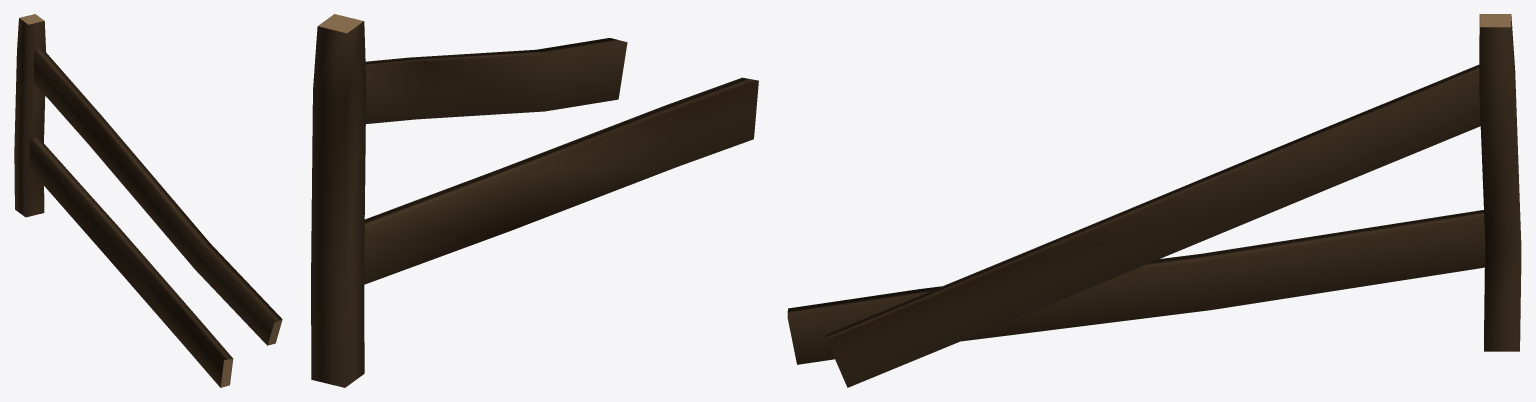
The model's file is SM_FencePost_Broken.fbx.
The picture shows the model from 3 angles, left to right: view 1: azimuth 30°, elevation 25°; view 2: azimuth 150°, elevation 25°; view 3: azimuth 270°, elevation 25°; orthographic projection. The views are drawn at different scales.
Visible parts, largest first — view 1: SM_FencePost_Broken; view 2: SM_FencePost_Broken; view 3: SM_FencePost_Broken.
Part boxes in pixels (x1,y1,x2,y2): SM_FencePost_Broken: (14, 14, 282, 387); SM_FencePost_Broken: (311, 14, 758, 387); SM_FencePost_Broken: (787, 14, 1521, 387).
Bounding box in the file's own units: 37.96 × 108 × 204.
